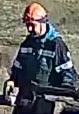gloves: (3, 78, 18, 108), (53, 95, 65, 114)
helmet: (21, 1, 48, 25)
vest: (17, 34, 66, 87)
